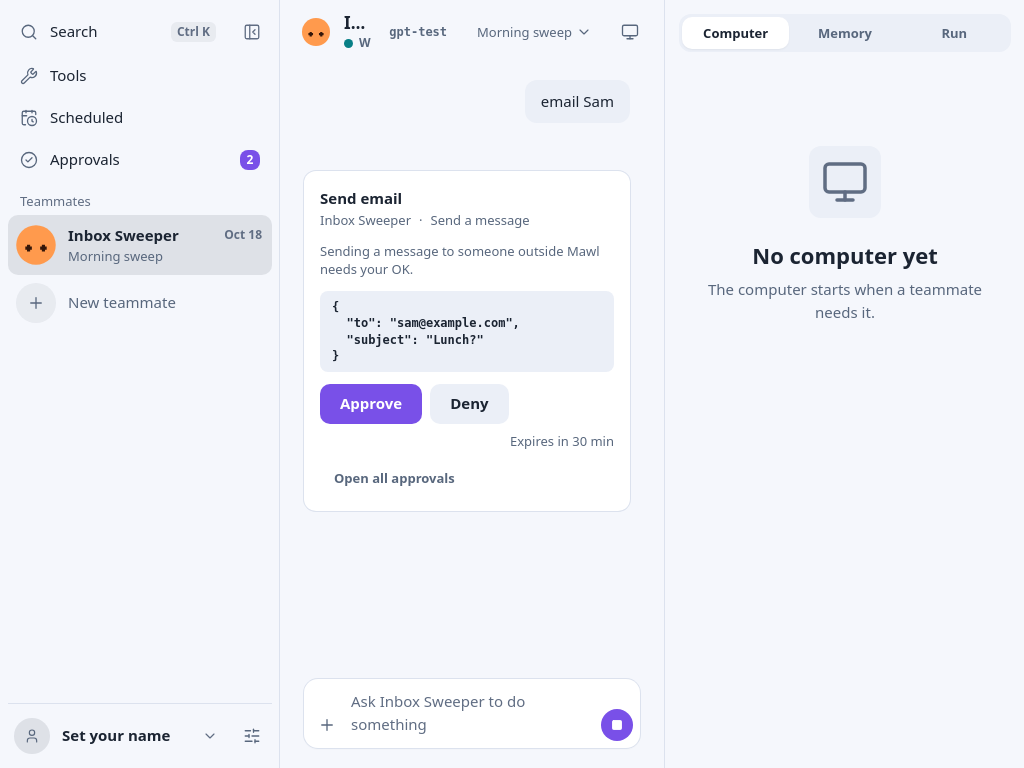
Test: approval card in the chat › shows the true status when it was already decided elsewhere
The width and height of the screenshot is (1024, 768).
Click the button "Deny" at (470, 404), box x1=430 y1=384 x2=509 y2=424
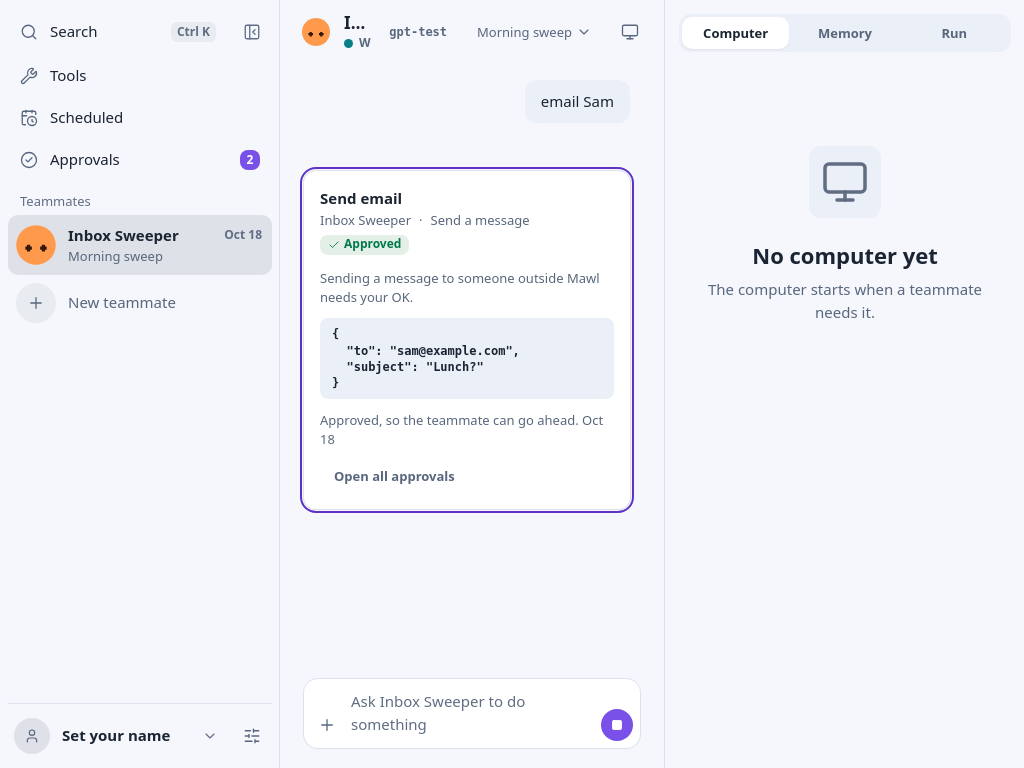
Expected: the text "Approved" is shown, x1=320 y1=234 x2=409 y2=254
